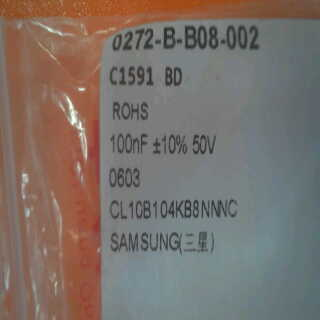100nF: (108, 130, 152, 158)
